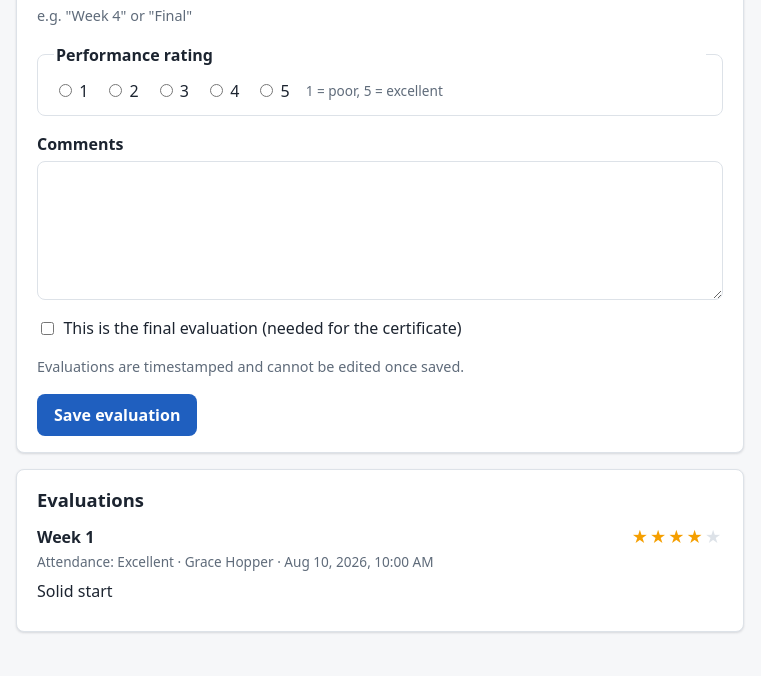
Test: InternshipPage as the supervisor (US-10, US-11) › requires period, rating, attendance and comments
This screenshot has width=761, height=676.
(page scrolled)
Click the button "Save evaluation": x=117, y=415 [37, 394, 197, 436]
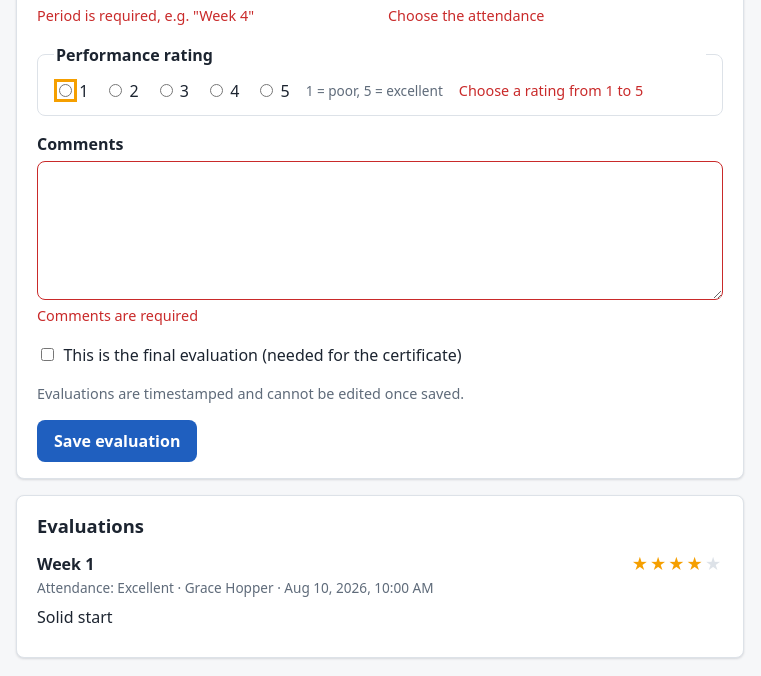
Expected: the text "Period is required, e.g. \"Week 4\"" is shown, [37, 6, 254, 25]
Expected: the text "Choose a rating from 1 to 5" is shown, [459, 80, 643, 102]
Expected: the text "Choose the attendance" is shown, [388, 6, 544, 25]
